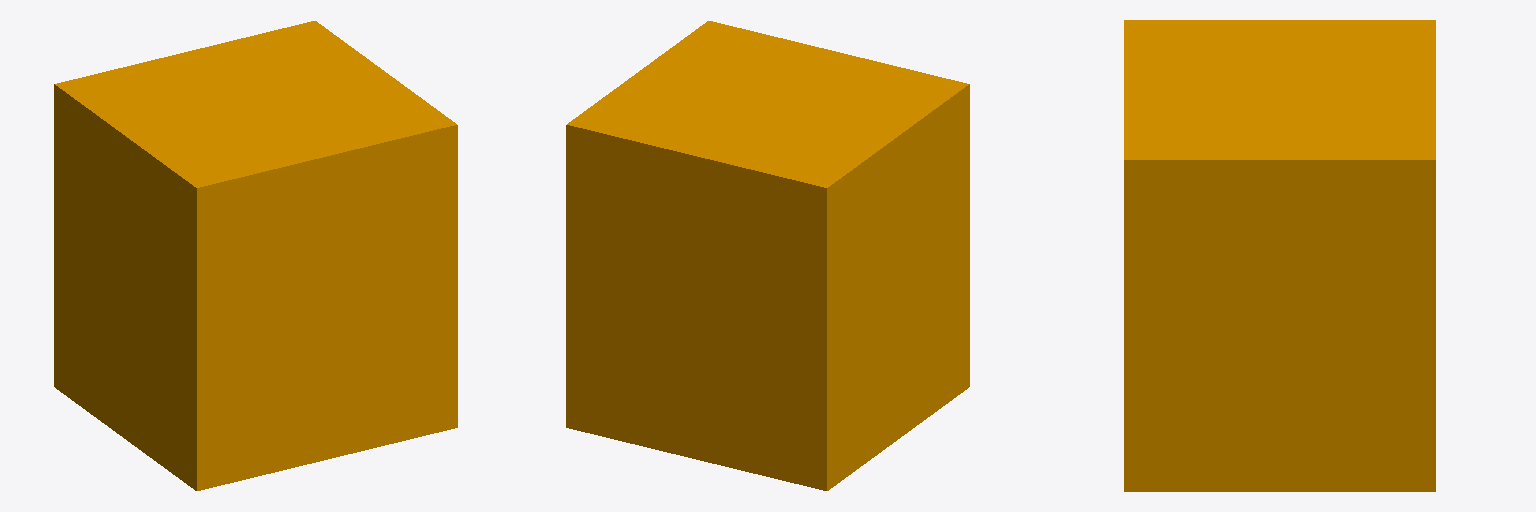
The robot description file, URDF, robot "2x2":
<?xml version='1.0' encoding='UTF-8'?>
<robot name="2x2">
  <link name="base_link">
    <inertial>
      <origin xyz="0.0 0.0 0.0" rpy="0.0 0.0 0.0"/>
      <mass value="0.1"/>
      <inertia ixx="0.1" ixy="0.0" ixz="0.0" iyy="0.1" iyz="0.0" izz="0.1"/>
    </inertial>
    <visual>
      <geometry>
        <box size="0.018 0.017 0.02 "/>
      </geometry>
      <material name=""/>
      <origin xyz="0.0 0.0 0.0" rpy="0.0 0.0 0.0"/>
    </visual>
    <collision>
      <geometry>
        <box size="0.018 0.017 0.02 "/>
      </geometry>
      <origin xyz="0.0 0.0 0.0" rpy="0.0 0.0 0.0"/>
    </collision>
  </link>
  <material name="">
    <color rgba="0.69773 0.04897 0.72554 1.     "/>
  </material>
  <contact>
    <lateral_friction value="1.0"/>
    <rolling_friction value="0.0"/>
    <contact_cfm value="0.0"/>
    <contact_erp value="1.0"/>
  </contact>
</robot>

--- What the picture shows (computed from the rendered views, not written in the file) ---
3 views of the same robot in one strip: view 1: azimuth 30°, elevation 25°; view 2: azimuth 150°, elevation 25°; view 3: azimuth 270°, elevation 25° (orthographic).
Model 2x2 with 1 links and 0 joints (none), rooted at base_link, posed every joint at zero.
Links seen in each view (by area): view 1: base_link; view 2: base_link; view 3: base_link.
Boxes of the visible links, x1,y1,x2,y2 form: base_link: [54, 21, 457, 490]; base_link: [566, 21, 969, 490]; base_link: [1124, 20, 1435, 491].
Bounding box of the posed robot: 0.018 × 0.017 × 0.02 m (x, y, z).
Geometry: primitives only (box / cylinder / sphere), no mesh files.